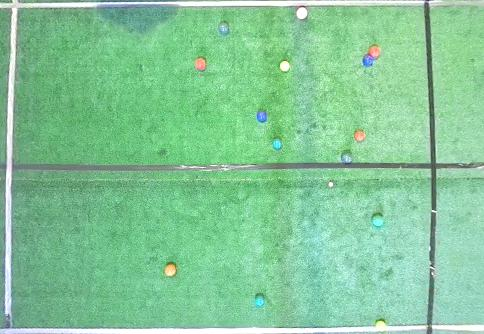blue: (256, 111, 267, 122), (362, 55, 373, 66)
green: (372, 214, 384, 227), (218, 22, 229, 34), (341, 153, 352, 164), (272, 138, 282, 150), (255, 295, 264, 306)
red: (368, 46, 381, 58), (296, 7, 308, 19), (165, 264, 176, 276), (195, 58, 206, 70), (354, 131, 364, 141)
vline: (423, 0, 483, 333), (0, 0, 21, 333)
white: (328, 182, 333, 187)
yellow: (375, 320, 387, 332), (279, 61, 290, 72)
